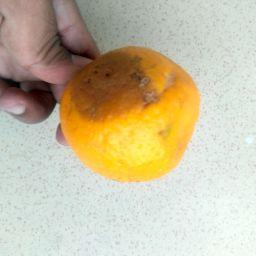Unripe: (61, 45, 199, 185)
